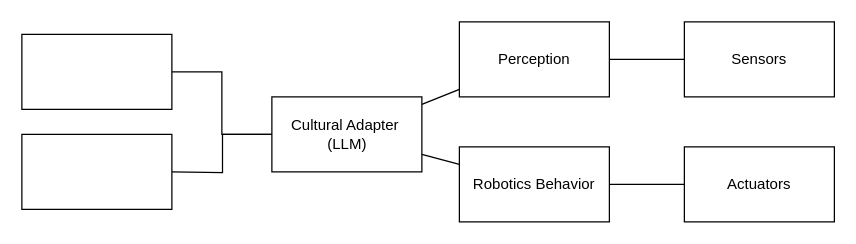
This 856x244 diagram has some shape labels left out. Each missing label, with the centre of its shape:
"Cultural Initial Preferences" goes at point 96,71.
"User Preferences" goes at point 96,171.
